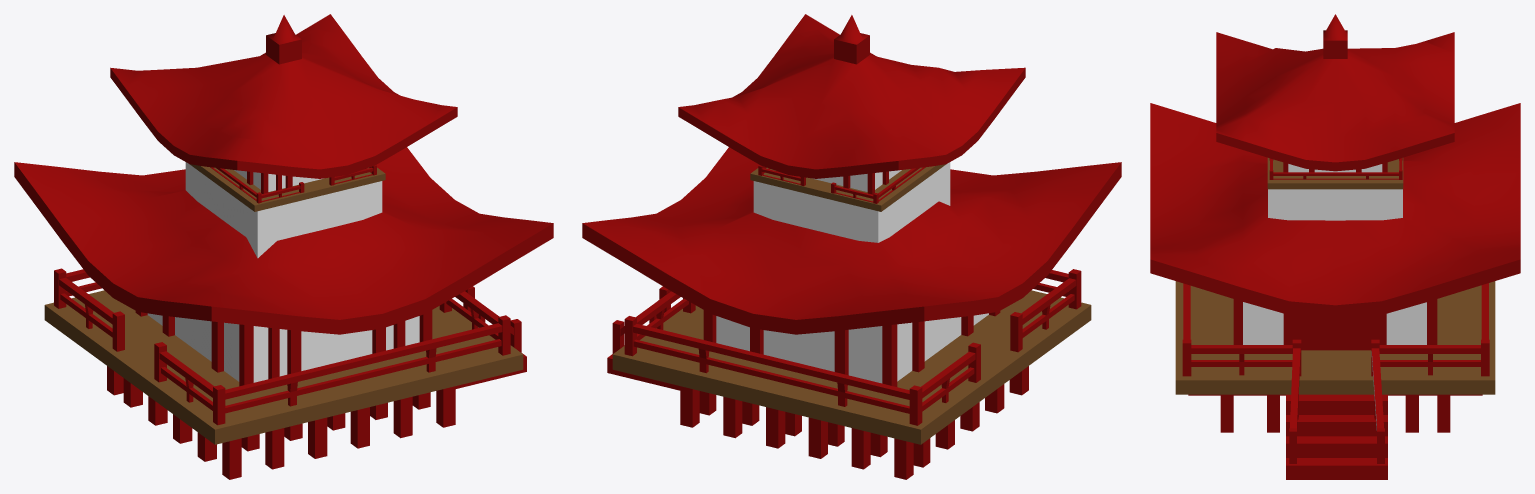
File: pagode.fbx
3 renders of one model, left to right at view 1: azimuth 30°, elevation 25°; view 2: azimuth 150°, elevation 25°; view 3: azimuth 270°, elevation 25°, orthographic. The views are drawn at different scales.
Parts seen in each view (by area): view 1: pCube51; view 2: pCube51; view 3: pCube51.
Part boxes in pixels (<box>): pCube51: <box>14,14,553,479</box>; pCube51: <box>582,14,1121,479</box>; pCube51: <box>1150,14,1520,479</box>.
Size of the model in its own units: 90.66 by 87.7 by 79.96.
